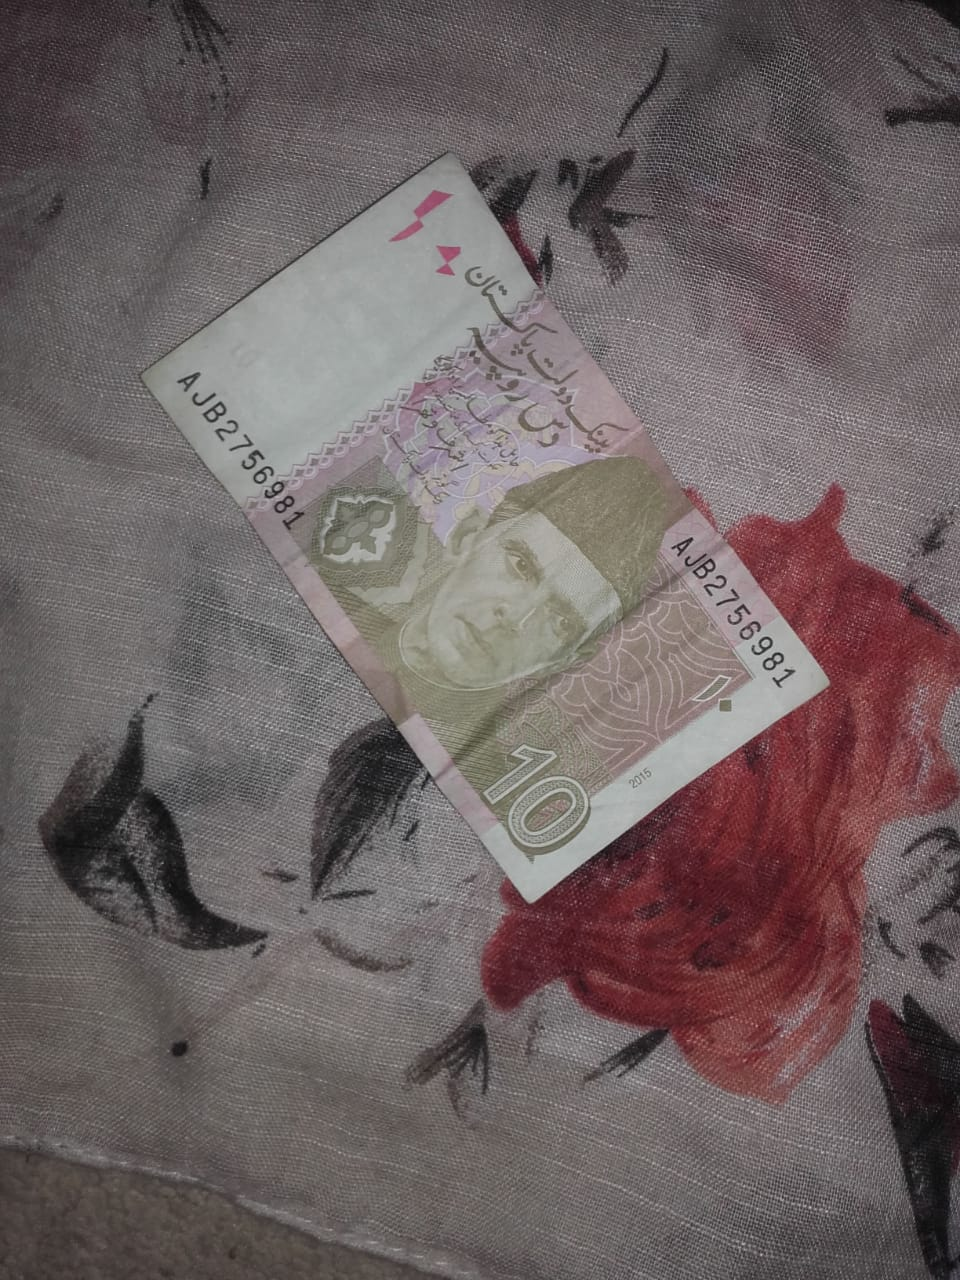10 rupee: (140, 153, 842, 893)
